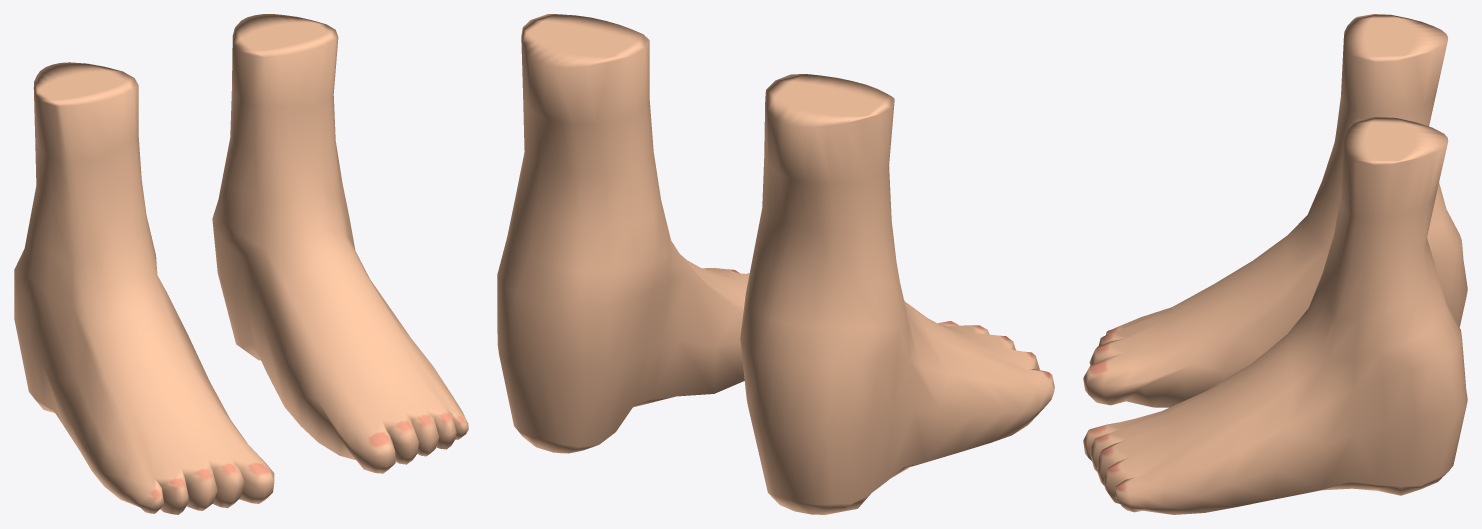
File: asi2.fbx
3 renders of one model, left to right at view 1: azimuth 30°, elevation 25°; view 2: azimuth 150°, elevation 25°; view 3: azimuth 270°, elevation 25°, orthographic. The views are drawn at different scales.
Visible parts, largest first — view 1: asi:polySurface90, asi:polySurface91; view 2: asi:polySurface90, asi:polySurface91; view 3: asi:polySurface91, asi:polySurface90.
Part boxes in pixels (x1=…): asi:polySurface90: x1=14, y1=62, x2=274, y2=514; asi:polySurface91: x1=212, y1=14, x2=468, y2=473; asi:polySurface90: x1=740, y1=74, x2=1054, y2=514; asi:polySurface91: x1=497, y1=14, x2=749, y2=453; asi:polySurface91: x1=1083, y1=117, x2=1467, y2=514; asi:polySurface90: x1=1083, y1=14, x2=1467, y2=407.
Bounding box in the file's own units: 1.52 × 1.39 × 1.4.
1 material, 1 textured.
